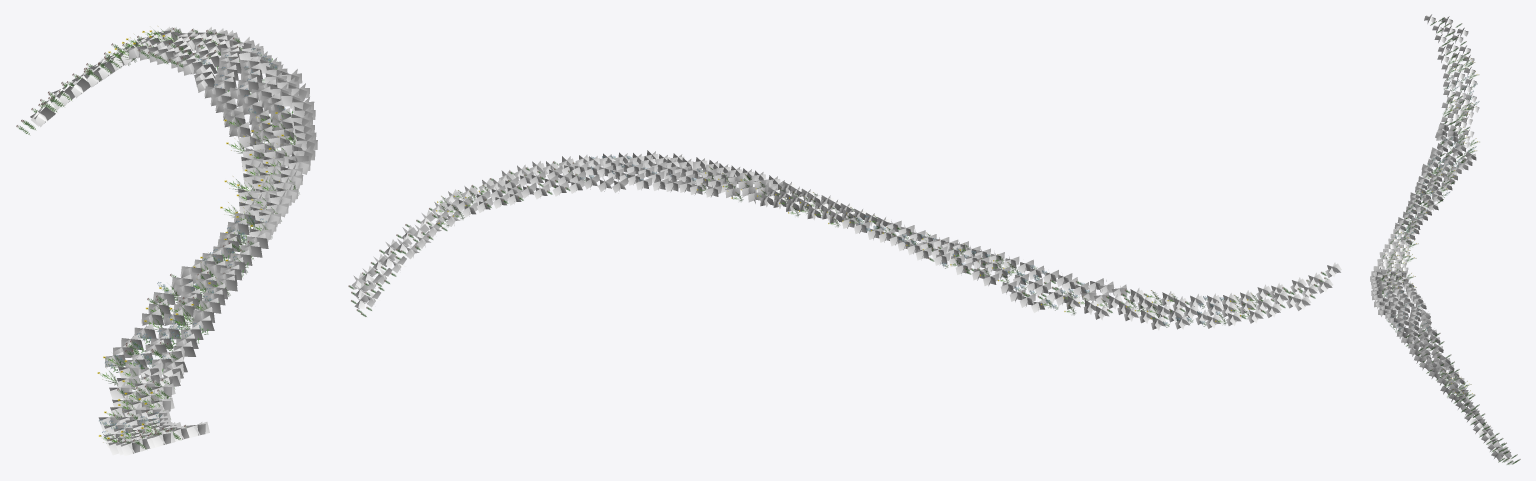
The model's file is grass_field_z.glb.
3 renders of one model, left to right at view 1: azimuth 90°, elevation 25°; view 2: azimuth 150°, elevation 25°; view 3: azimuth 270°, elevation 25°, orthographic. The views are drawn at different scales.
Visible parts, largest first — view 1: stk_grassAlpha.png__, BlackEyedSusan.png__, Flower5.png__, Flower3.png__, Flower3F.png__, Flower5F.png__; view 2: stk_grassAlpha.png__, BlackEyedSusan.png__, Flower5.png__; view 3: stk_grassAlpha.png__, BlackEyedSusan.png__, Flower5.png__, Flower3.png__, Flower3F.png__.
Part boxes in pixels (<box>): stk_grassAlpha.png__: <box>30,26,317,455</box>; BlackEyedSusan.png__: <box>97,26,299,442</box>; Flower5.png__: <box>16,28,253,448</box>; Flower3.png__: <box>99,48,292,434</box>; Flower3F.png__: <box>99,48,285,434</box>; Flower5F.png__: <box>16,28,248,441</box>; stk_grassAlpha.png__: <box>351,150,1341,330</box>; BlackEyedSusan.png__: <box>436,166,1257,324</box>; Flower5.png__: <box>349,162,1327,319</box>; stk_grassAlpha.png__: <box>1370,14,1513,465</box>; BlackEyedSusan.png__: <box>1379,54,1479,397</box>; Flower5.png__: <box>1402,17,1520,464</box>; Flower3.png__: <box>1383,77,1477,332</box>; Flower3F.png__: <box>1386,76,1479,330</box>.
Size of the model in its own units: 273 by 63.29 by 56.69.
Materials: 6 (5 with a texture image).
